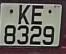2: (28, 25, 43, 47)
3: (15, 25, 30, 46)
8: (3, 24, 18, 46)
9: (41, 24, 56, 48)
F: (31, 4, 46, 25)
K: (17, 4, 33, 26)
